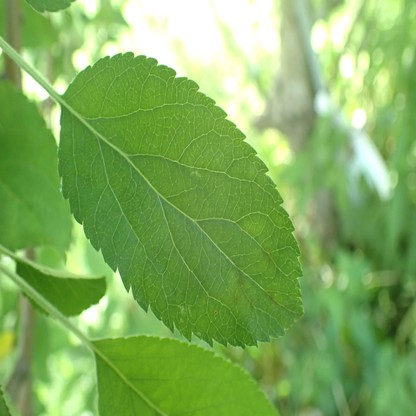scab: (225, 270, 256, 312), (264, 289, 275, 303), (261, 247, 272, 260)
